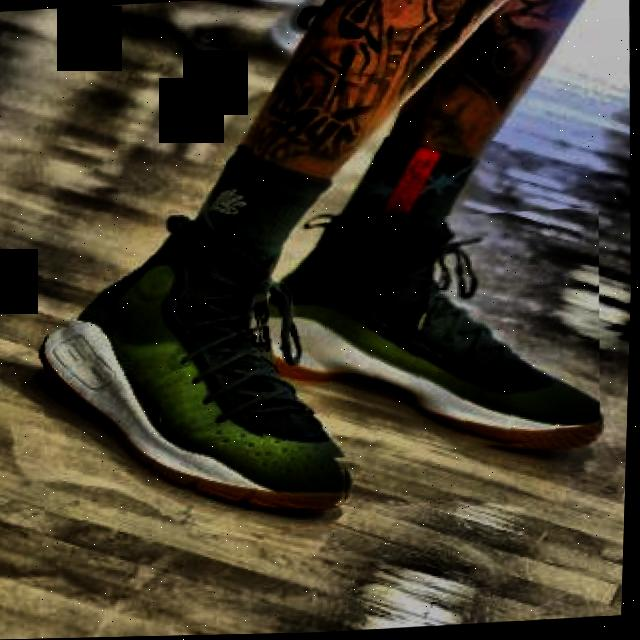shoe: (38, 222, 361, 523), (252, 209, 608, 465)
